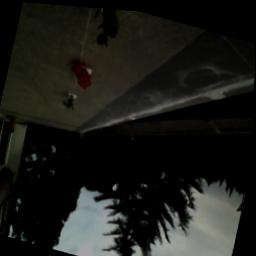herb: (89, 7, 125, 50), (64, 93, 77, 112)
wild: (70, 56, 97, 91)
